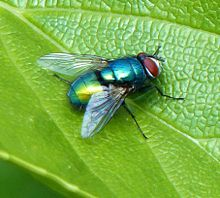green bottles fly: (38, 37, 185, 147)
